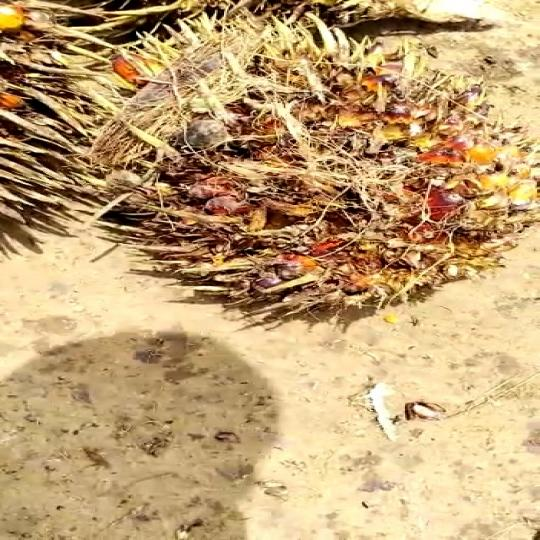terlalu masak: (120, 2, 540, 320)
